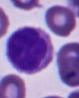L: (5, 26, 53, 74)
